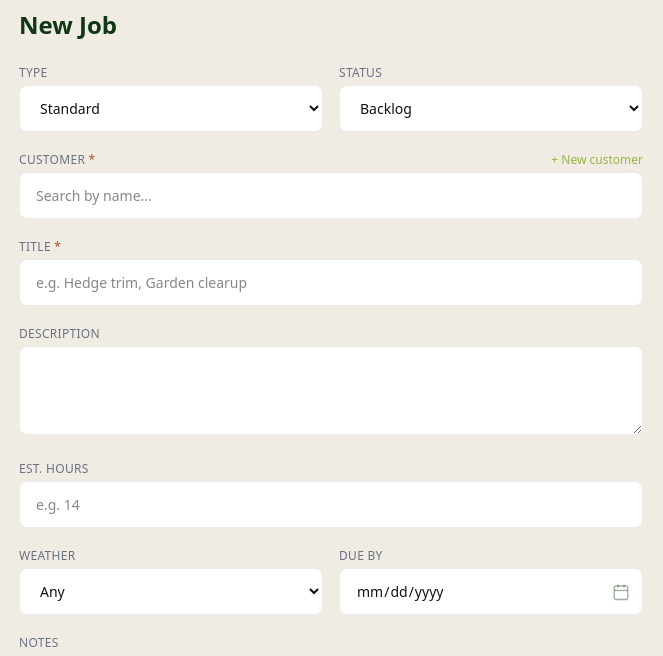
Scenario: JobForm — Add mode › can clear a selected customer
In the field with placeholder "Search by name…": (331, 196) [19,172,643,219], type "John"
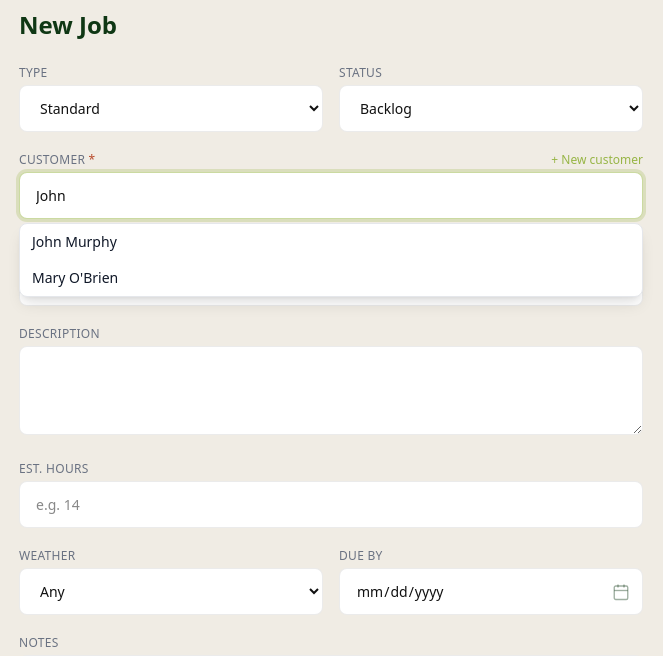
Click the button "John Murphy": (74, 242) [20,224,642,260]
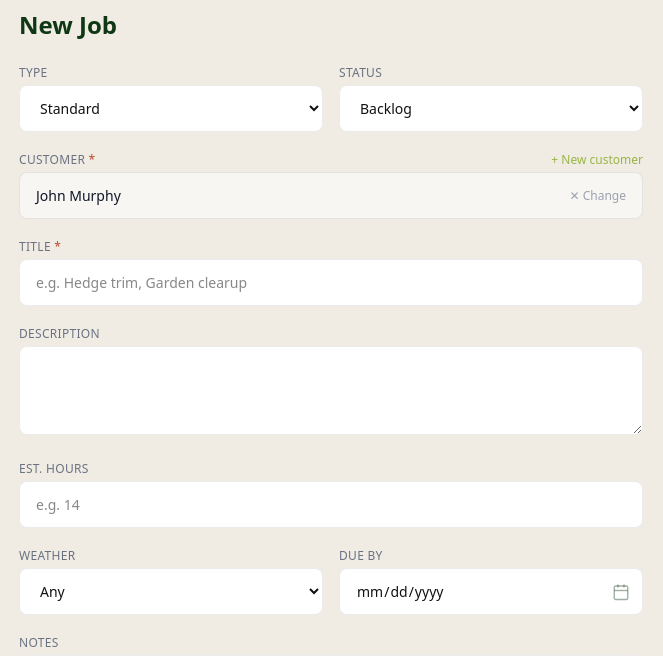
Click the button "✕ Change": (598, 196) [570,188,626,204]
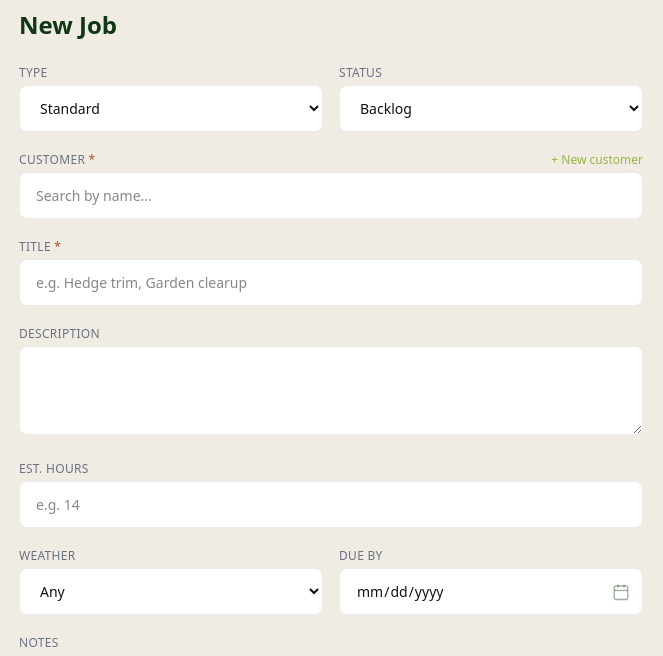
Check: the field with placeholder "Search by name…" is shown, box [19,172,643,219]
